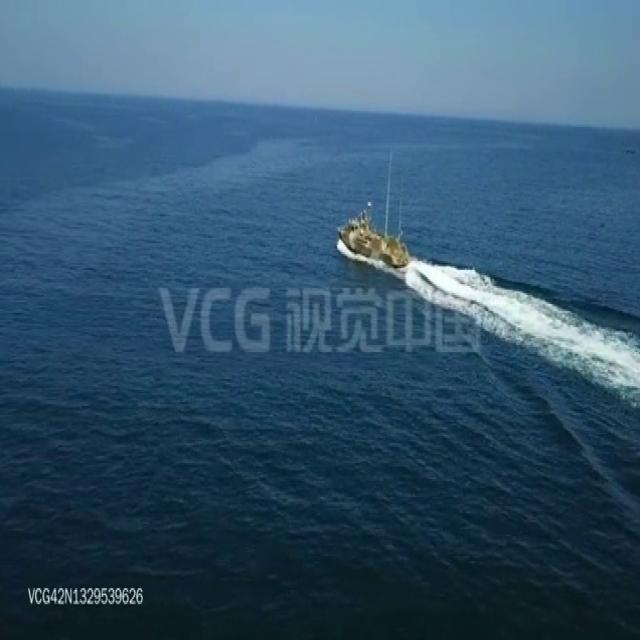houseboat: (332, 200, 416, 274)
